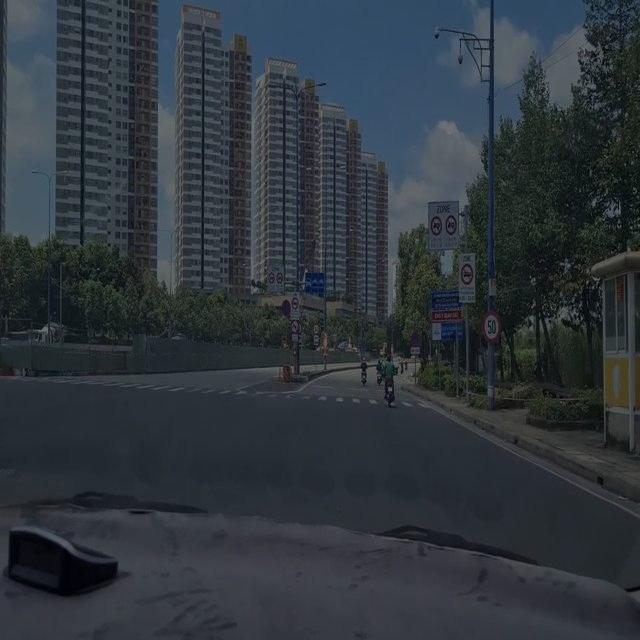Cấm các phương tiện hoạt động trong khung giờ cố định: (423, 191, 463, 253), (456, 248, 479, 303), (260, 261, 285, 295)
Cấm dừng - Cấm đỗ: (409, 328, 422, 349), (279, 296, 292, 317)
Cấm xe máy: (290, 317, 300, 334)
Giới hạn tốc độ: 50Km/h: (481, 310, 501, 339)
Giới hạn tốc độ: 80Km/h: (311, 321, 319, 334)
Khác: (429, 286, 467, 339)
Làn đường cho từng xe: (303, 269, 325, 294)
